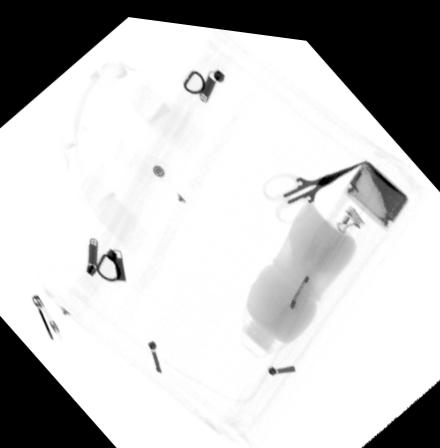Scissors: (254, 150, 364, 224)
